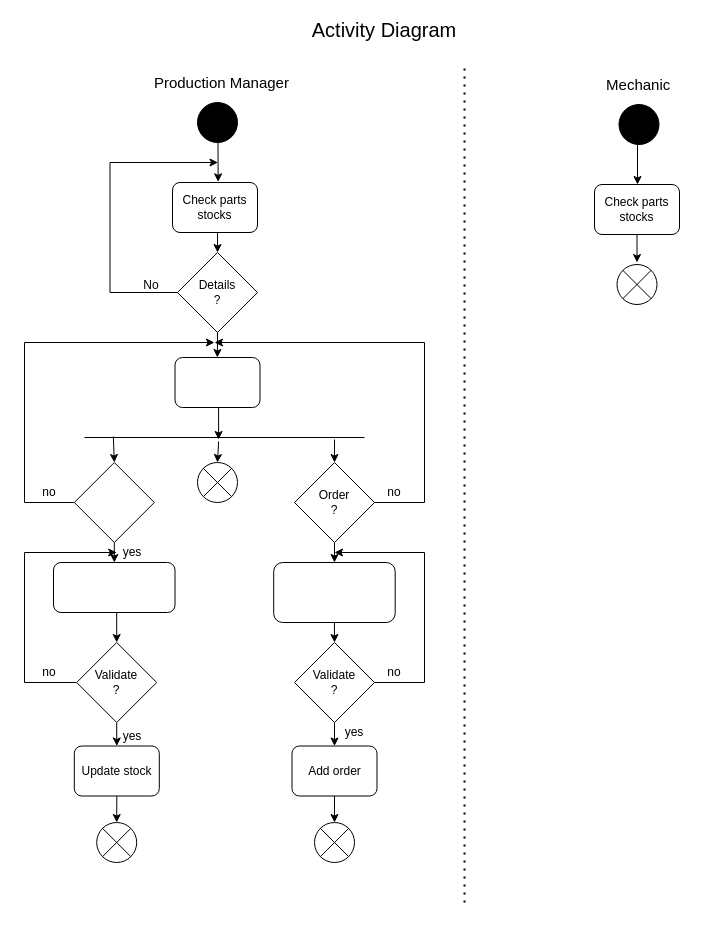
The diagram is 712 pixels wide and 929 high, and some of its shapes have lost their labels. Here are the shapes that lost their labels. From the top down, the centre of each, then its label:
At pixel 217 382: "View part details".
At pixel 113 502: "Edit Stock ?".
At pixel 113 587: "Set new stock Set new requirement Set minimum amount".
At pixel 334 592: "Choose quantity Choose provider Set the date of receipt of order".
